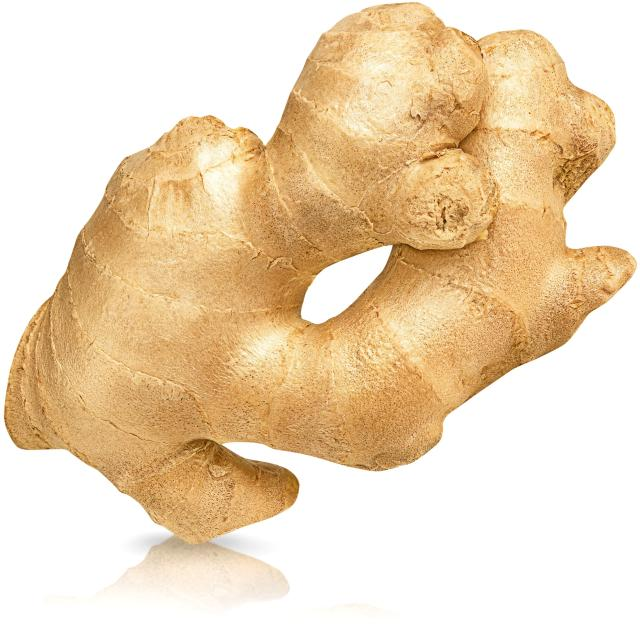ginger-root: (0, 0, 640, 555)
